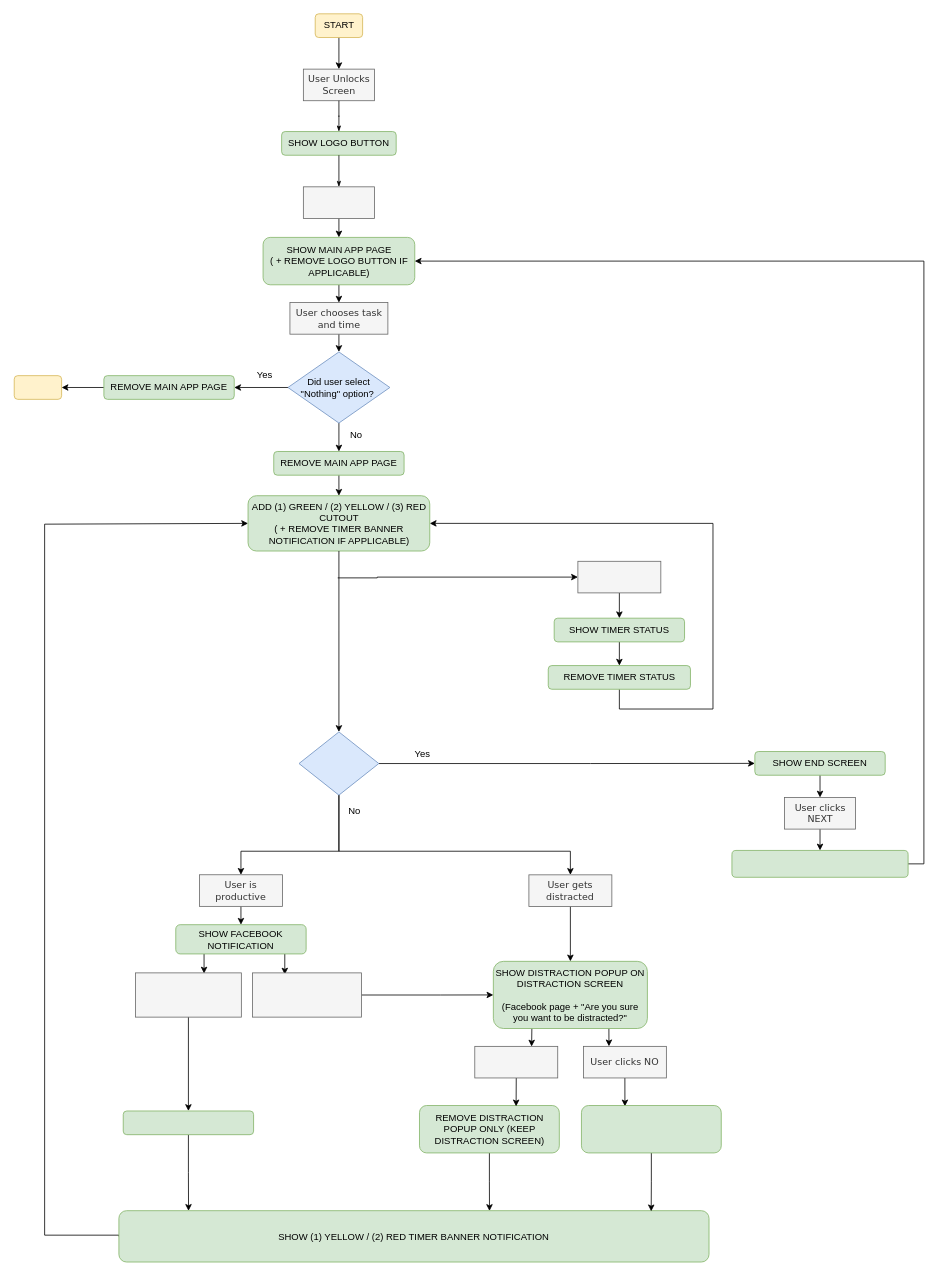
The diagram is 944 pixels wide and 1276 high, and some of its shapes have lost their labels. Here are the shapes that lost their labels. From the top down, the centre of each, then its label:
point 338,202: User taps button
point 37,387: END
point 619,577: User taps logo
point 338,763: Is cutout red?
point 819,863: REMOVE ALL CUTOUTS
point 188,994: User ignores notification to finish task
point 306,994: User clicks on notification to go to Facebook
point 516,1062: User clicks YES
point 188,1122: REMOVE FACEBOOK NOTIFICATION
point 651,1129: REMOVE DISTRACTION SCREEN
